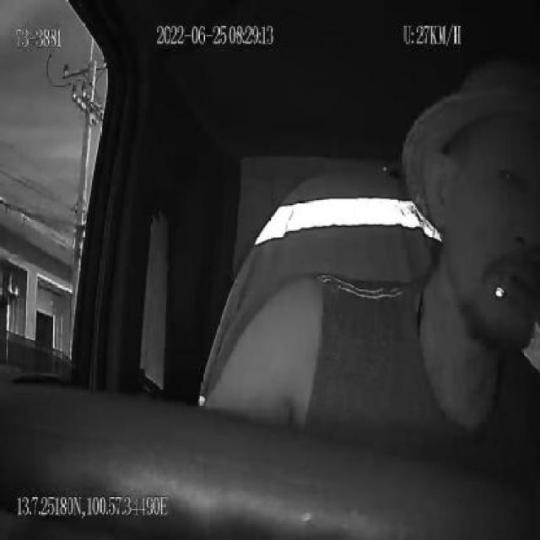smoking: (495, 263, 516, 311)
